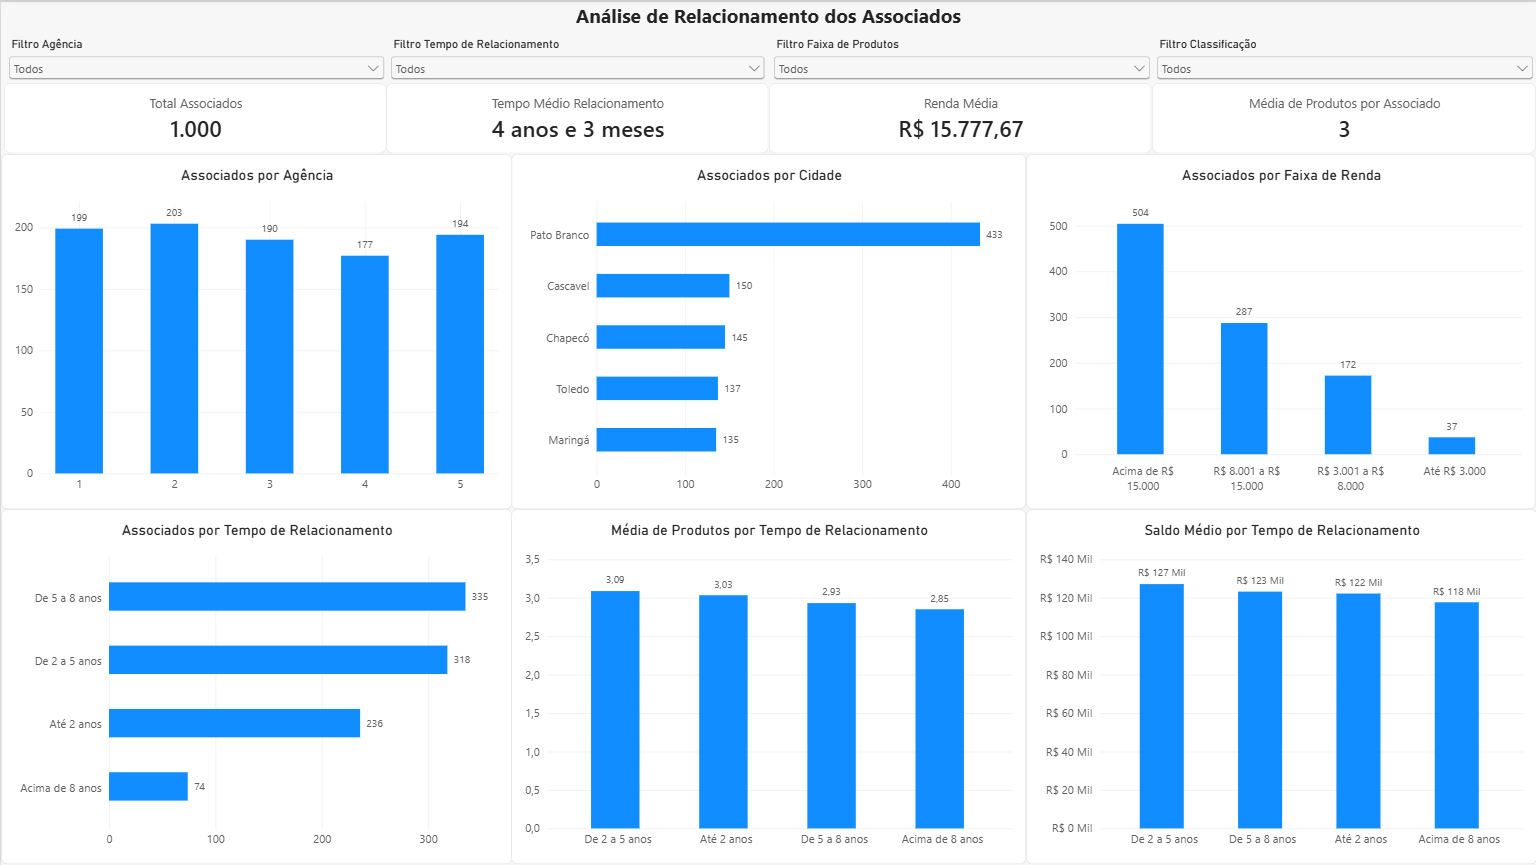

Layout of this report page (visuals, bound fields, positions):
{"tool":"powerbi","page":{"name":"Relacionamento","canvas":[1920,1080],"ordinal":1},"visuals":[{"type":"cardVisual","fields":{"Data":["Associados.Total Associados"]},"box":[3.7,101.2,478.6,88.6],"z":0},{"type":"cardVisual","fields":{"Data":["Associados.Produtos por Associado"]},"box":[1438.6,101.4,480,88.6],"z":1000},{"type":"cardVisual","fields":{"Data":["Associados.Tempo Médio Relacionamento"]},"box":[481.5,101.5,478.6,88.6],"z":2000},{"type":"cardVisual","fields":{"Data":["Associados.Renda Média"]},"box":[960,101.4,478.6,88.6],"z":3000},{"type":"clusteredBarChart","title":"Associados por Tempo de Relacionamento","fields":{"Category":["Associados.FAIXA_TEMPO_RELACIONAMENTO"],"Y":["Associados.Total Associados"]},"box":[0,634.3,638.6,444.3],"z":4000},{"type":"clusteredBarChart","title":"Associados por Cidade","fields":{"Category":["Associados.CIDADE"],"Y":["Associados.Total Associados"]},"box":[637.1,190,644.3,444.3],"z":5000},{"type":"clusteredColumnChart","title":"Associados por Faixa de Renda","fields":{"Category":["Associados.FAIXA_RENDA"],"Y":["Associados.Total Associados"]},"box":[1281.4,190,637.1,444.3],"z":6000},{"type":"clusteredColumnChart","title":"Média de Produtos por Tempo de Relacionamento","fields":{"Category":["Associados.FAIXA_TEMPO_RELACIONAMENTO"],"Y":["Associados.Produtos por Associado"]},"box":[637.1,634.3,644.3,444.3],"z":7000},{"type":"clusteredColumnChart","title":"Saldo Médio por Tempo de Relacionamento","fields":{"Category":["Associados.FAIXA_TEMPO_RELACIONAMENTO"],"Y":["Associados.Saldo Médio"]},"box":[1281.4,634.3,638.6,444.3],"z":8000},{"type":"slicer","fields":{"Values":["Associados.AGENCIA"]},"box":[4.5,44.7,478.6,58.6],"z":9000},{"type":"slicer","fields":{"Values":["Associados.FAIXA_TEMPO_RELACIONAMENTO"]},"box":[483.1,44.7,477.1,58.6],"z":10000},{"type":"slicer","fields":{"Values":["Associados.FAIXA_PRODUTOS"]},"box":[961.7,44.7,480,58.6],"z":11000},{"type":"slicer","fields":{"Values":["Associados.CLASSIFICACAO"]},"box":[1440,44.7,480,58.6],"z":12000},{"type":"textbox","box":[0,0,1918.6,44.3],"z":13000},{"type":"clusteredColumnChart","title":"Associados por Agência","fields":{"Category":["Associados.AGENCIA"],"Y":["Associados.Total Associados"]},"box":[0,190,638.6,444.3],"z":14000}]}

Visuals, with their boxes in screenshot pixels (x1, y1, x2, y2), scaled from the page's 1920x1080 canvas onto the 1536x865 screenshot:
cardVisual - Associados.Total Associados: Rect(3, 81, 386, 152)
cardVisual - Associados.Produtos por Associado: Rect(1151, 81, 1535, 152)
cardVisual - Associados.Tempo Médio Relacionamento: Rect(385, 81, 768, 152)
cardVisual - Associados.Renda Média: Rect(768, 81, 1151, 152)
"Associados por Tempo de Relacionamento" clusteredBarChart: Rect(0, 508, 511, 864)
"Associados por Cidade" clusteredBarChart: Rect(510, 152, 1025, 508)
"Associados por Faixa de Renda" clusteredColumnChart: Rect(1025, 152, 1535, 508)
"Média de Produtos por Tempo de Relacionamento" clusteredColumnChart: Rect(510, 508, 1025, 864)
"Saldo Médio por Tempo de Relacionamento" clusteredColumnChart: Rect(1025, 508, 1535, 864)
slicer - Associados.AGENCIA: Rect(4, 36, 386, 83)
slicer - Associados.FAIXA_TEMPO_RELACIONAMENTO: Rect(386, 36, 768, 83)
slicer - Associados.FAIXA_PRODUTOS: Rect(769, 36, 1153, 83)
slicer - Associados.CLASSIFICACAO: Rect(1152, 36, 1535, 83)
textbox: Rect(0, 0, 1535, 35)
"Associados por Agência" clusteredColumnChart: Rect(0, 152, 511, 508)
